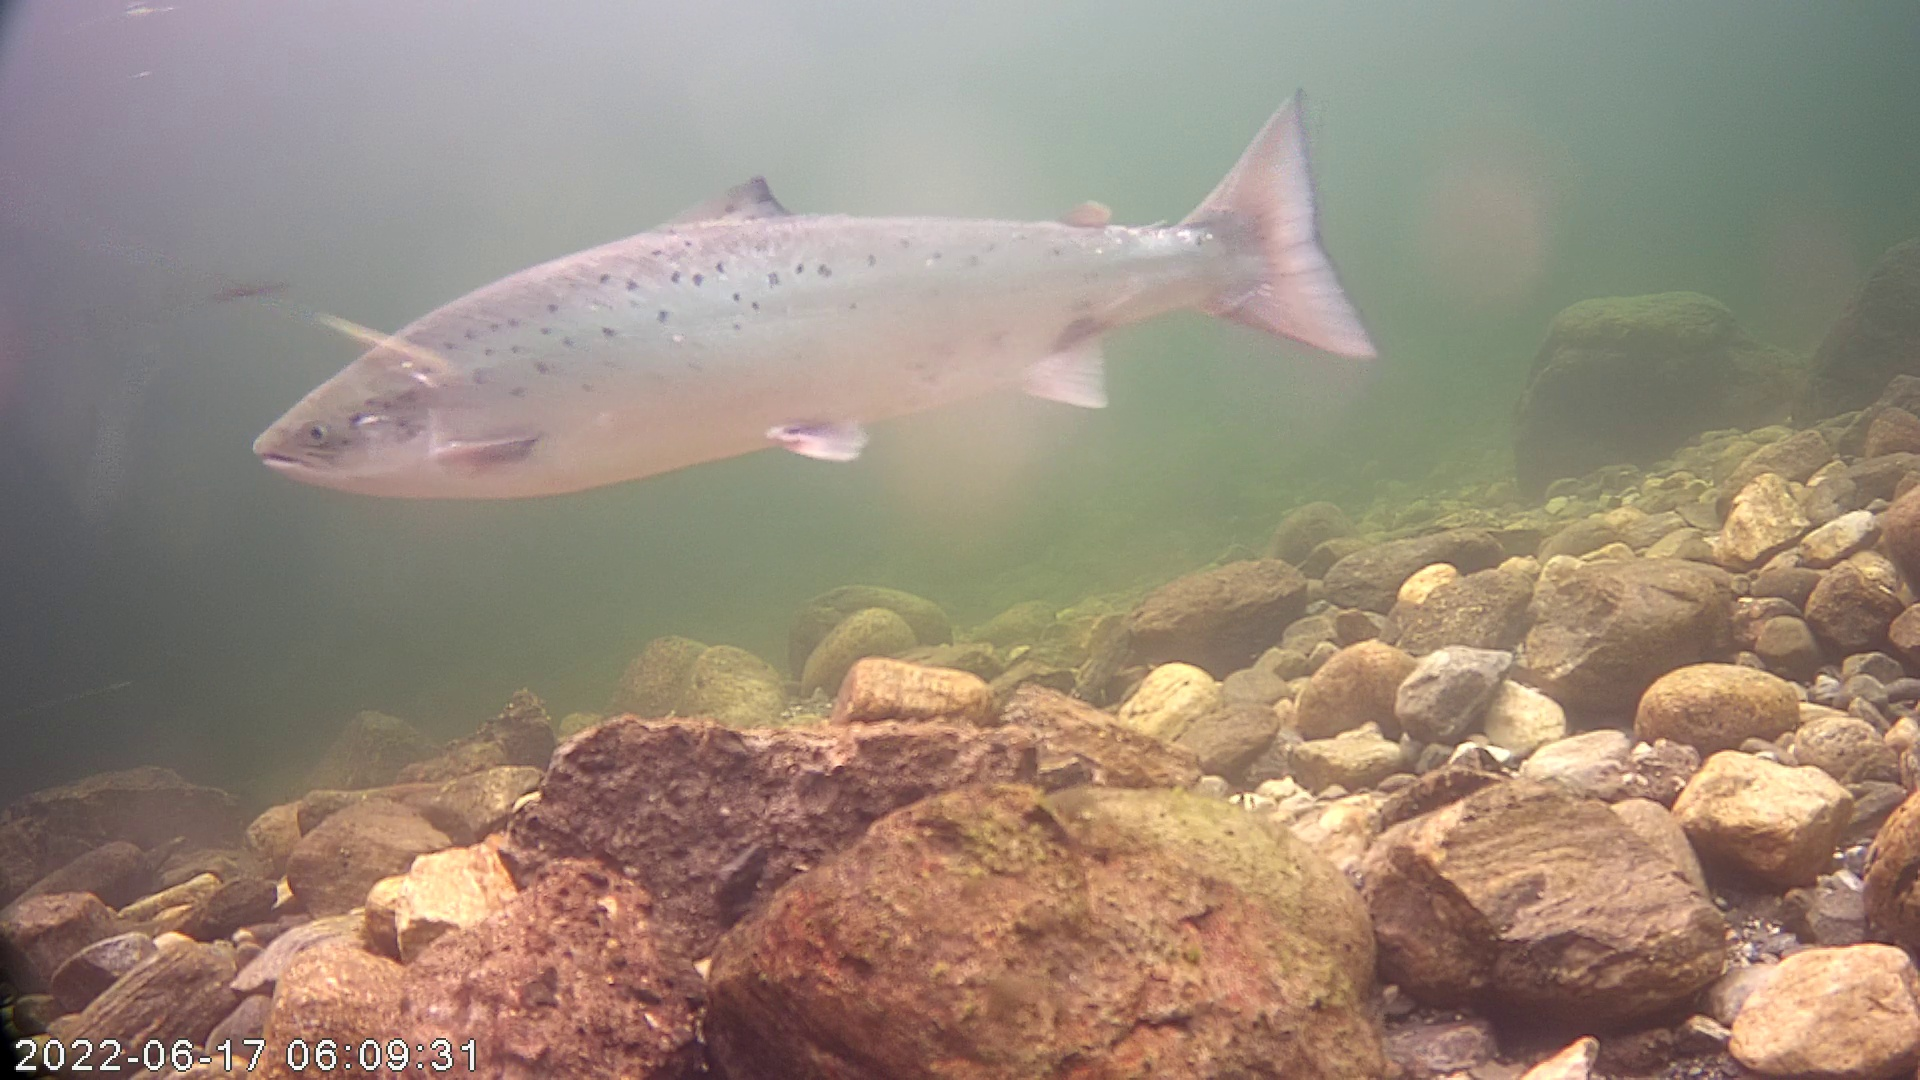salmon: (249, 84, 1379, 506)
